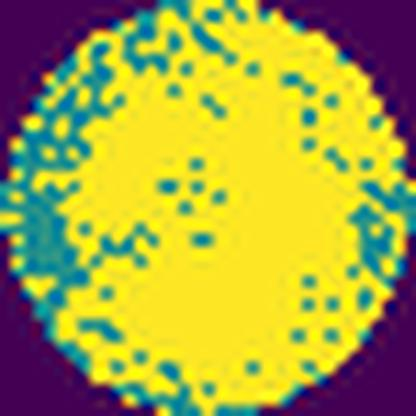Near-full: (67, 0, 416, 416)
